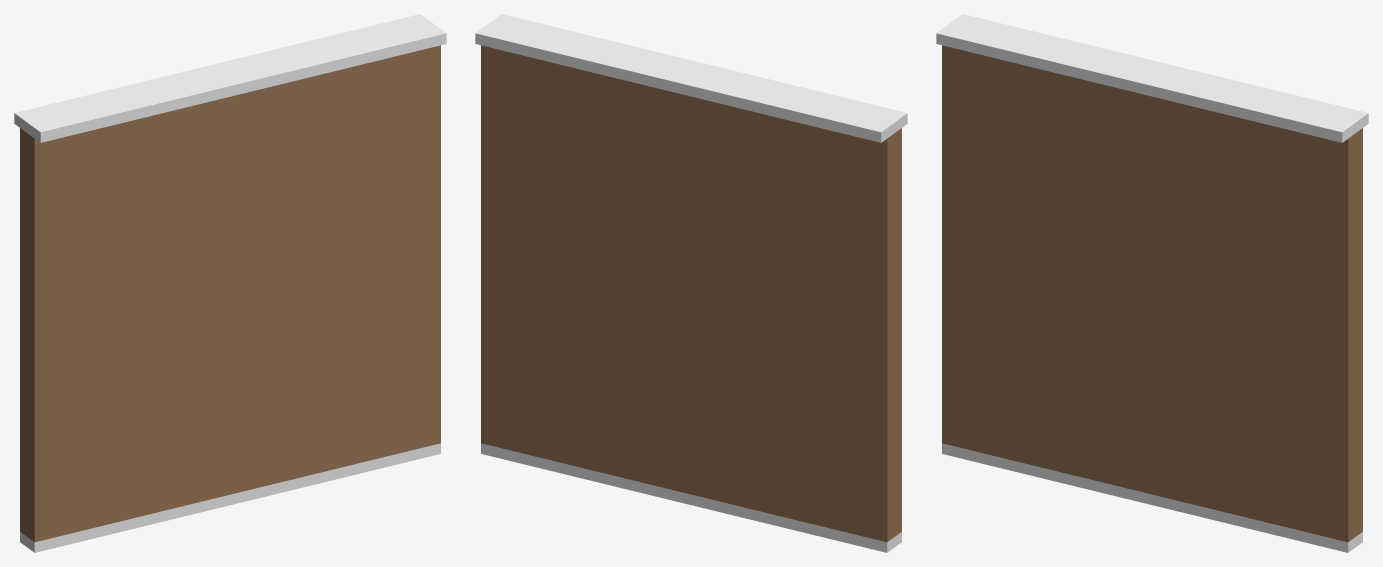
The model's file is SM_4x4m_BasicWall.fbx.
3 views of the same model, side by side, from view 1: azimuth 30°, elevation 25°; view 2: azimuth 150°, elevation 25°; view 3: azimuth 330°, elevation 25° (orthographic).
Parts seen in each view (by area): view 1: SM_4x4m_BasicWall.001; view 2: SM_4x4m_BasicWall.001; view 3: SM_4x4m_BasicWall.001.
Boxes of the visible parts, left/top/right/bottom form: SM_4x4m_BasicWall.001: left=14, top=14, right=446, bottom=552; SM_4x4m_BasicWall.001: left=475, top=14, right=907, bottom=552; SM_4x4m_BasicWall.001: left=936, top=14, right=1368, bottom=552.
Bounding box in the file's own units: 400 × 45 × 400.
